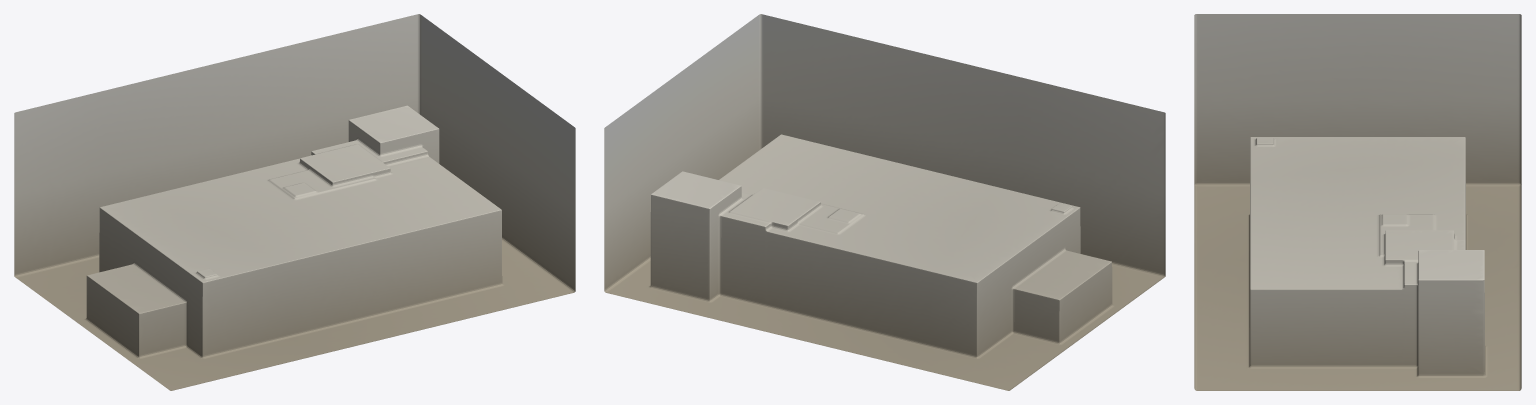
File: pennywort_mill_col.glb
The picture shows the model from 3 angles, left to right: view 1: azimuth 30°, elevation 25°; view 2: azimuth 150°, elevation 25°; view 3: azimuth 270°, elevation 25°; orthographic projection. The views are drawn at different scales.
Parts seen in each view (by area): view 1: geometry_0; view 2: geometry_0; view 3: geometry_0.
Part boxes in pixels (x1,y1,x2,y2): geometry_0: (14,14,575,390); geometry_0: (604,14,1165,390); geometry_0: (1194,14,1521,390).
Bounding box in the file's own units: 131 × 50.51 × 87.37.
